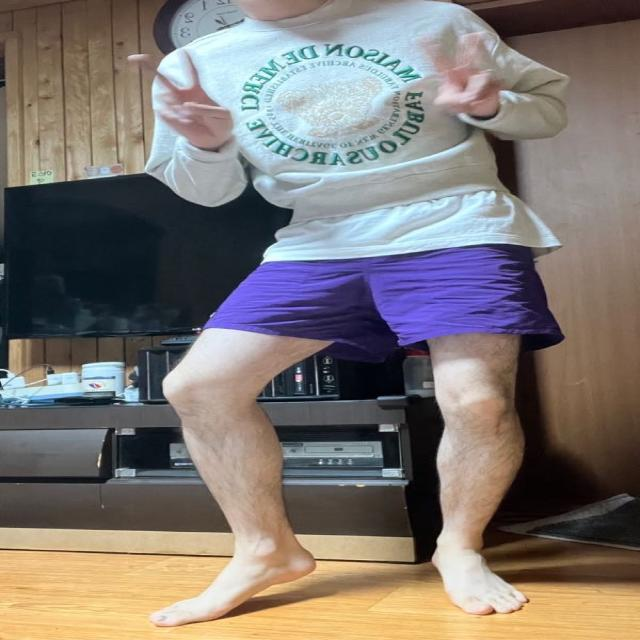mtm: (148, 4, 572, 224)
shortpants: (205, 240, 565, 352)
